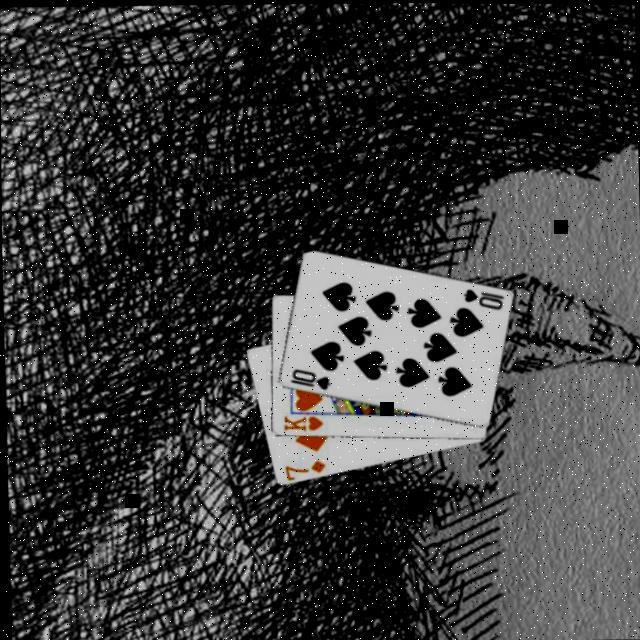10S: (287, 365, 333, 394), (460, 285, 506, 312)
7D: (280, 457, 328, 482)
KH: (281, 413, 325, 435)
